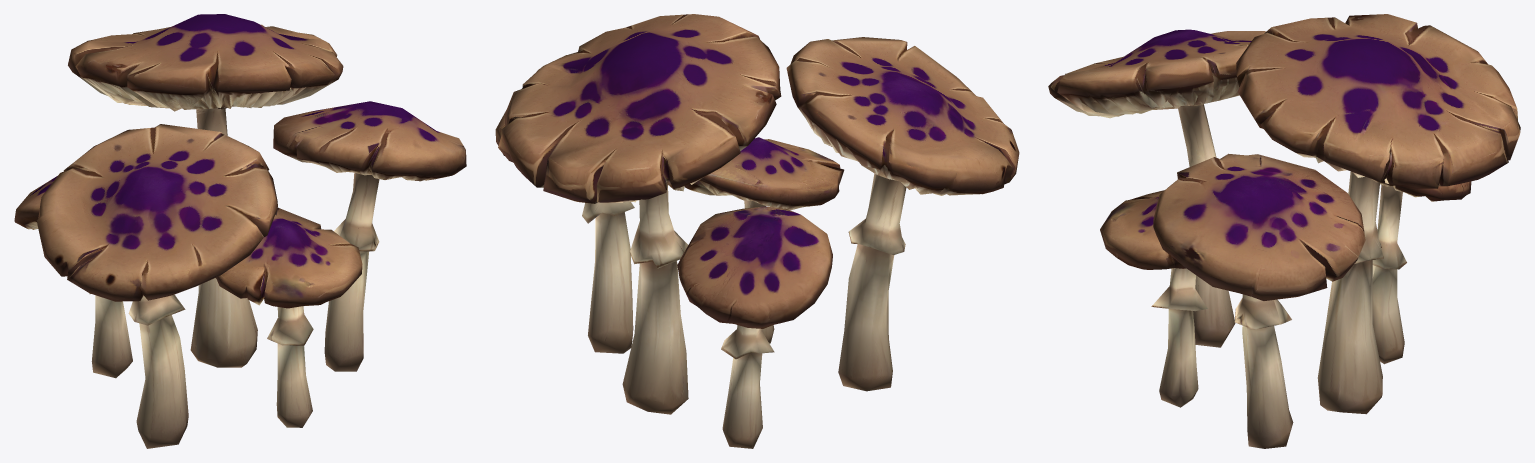
The picture shows the model from 3 angles, left to right: view 1: azimuth 30°, elevation 25°; view 2: azimuth 150°, elevation 25°; view 3: azimuth 270°, elevation 25°; orthographic projection. The views are drawn at different scales.
Parts seen in each view (by area): view 1: Mesh_0; view 2: Mesh_0; view 3: Mesh_0.
Part boxes in pixels (x1=…): Mesh_0: x1=14, y1=14, x2=466, y2=448; Mesh_0: x1=495, y1=14, x2=1019, y2=448; Mesh_0: x1=1048, y1=14, x2=1520, y2=448.
Bounding box in the file's own units: 1.92 × 1.45 × 1.72.
Materials: 1 (1 with a texture image).
